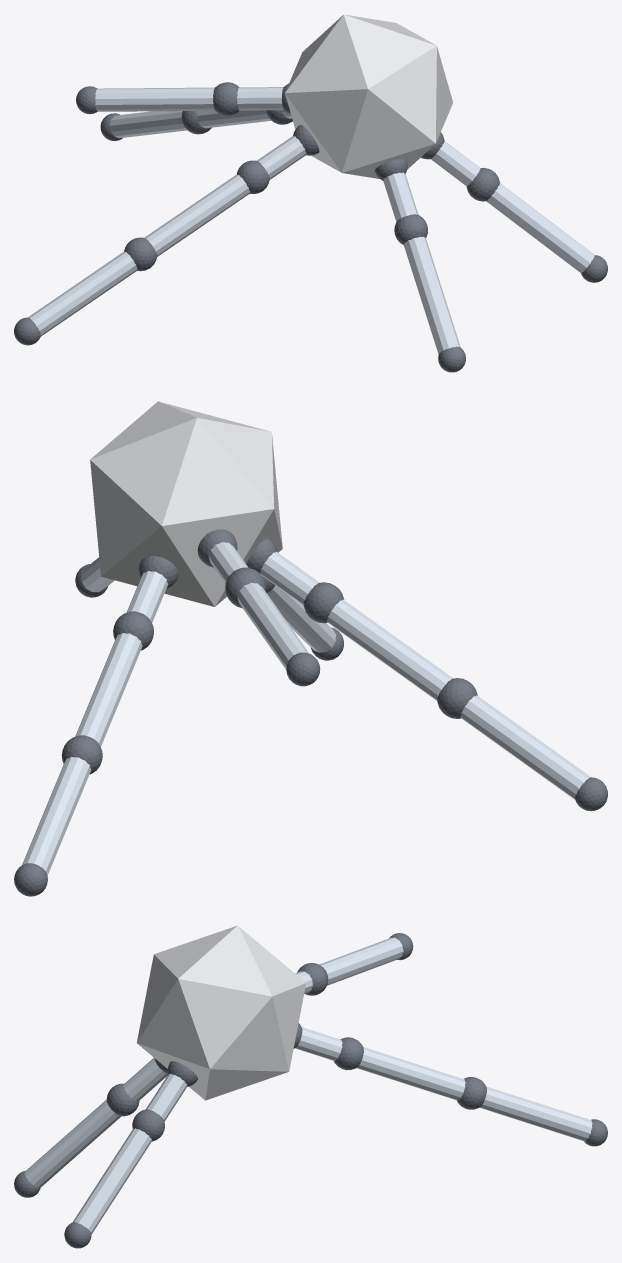
The model's file is mixed_abs.glb.
3 views of the same model, one above another, from view 1: azimuth 30°, elevation 25°; view 2: azimuth 150°, elevation 25°; view 3: azimuth 270°, elevation 25° (orthographic). The views are drawn at different scales.
Parts seen in each view (by area): view 1: geom_0, geom_11, geom_23, geom_6, geom_28, geom_4, geom_18, geom_9, geom_2, geom_21, geom_26, geom_16 (+9 smaller); view 2: geom_0, geom_6, geom_4, geom_18, geom_16, geom_11, geom_28, geom_2, geom_14, geom_3, geom_5, geom_17 (+8 smaller); view 3: geom_0, geom_23, geom_18, geom_28, geom_16, geom_11, geom_21, geom_14, geom_26, geom_17, geom_22, geom_15 (+3 smaller).
Boxes of the visible parts, x1,y1,x2,y2 form: geom_0: (285,14,453,178); geom_11: (95,87,214,111); geom_23: (486,183,594,273); geom_6: (28,251,137,336); geom_28: (404,236,460,354); geom_4: (144,174,250,256); geom_18: (110,111,187,138); geom_9: (237,87,283,110); geom_2: (257,135,306,179); geom_21: (431,141,480,186); geom_26: (383,172,418,221); geom_16: (196,110,271,128); geom_0: (90,401,282,606); geom_6: (460,695,590,799); geom_4: (327,599,453,700); geom_18: (22,756,91,875); geom_16: (75,633,142,746); geom_11: (237,582,308,669); geom_28: (267,585,335,652); geom_2: (260,551,319,604); geom_14: (126,571,168,622); geom_3: (303,582,344,623); geom_5: (437,678,477,718); geom_17: (61,735,102,774); geom_0: (137,925,306,1100); geom_23: (73,1128,151,1234); geom_18: (479,1086,592,1141); geom_28: (25,1100,120,1188); geom_16: (356,1047,465,1100); geom_11: (319,937,403,985); geom_21: (146,1073,187,1121); geom_14: (295,1027,342,1060); geom_26: (123,1058,167,1101); geom_17: (457,1077,486,1109); geom_22: (132,1109,164,1141); geom_15: (334,1037,363,1070).
Size of the model in its own units: 0.5065 by 0.2624 by 0.5215.
